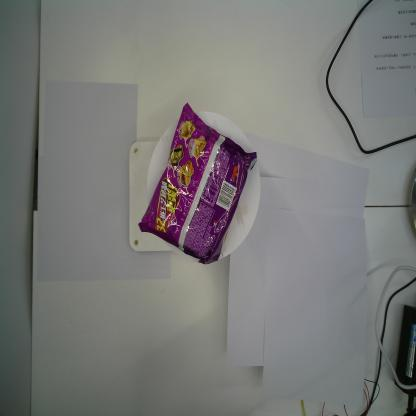Instant Noodles: (137, 101, 258, 266)
